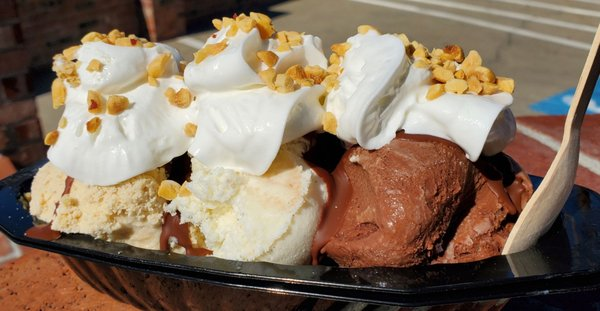soup: (315, 132, 476, 269)
